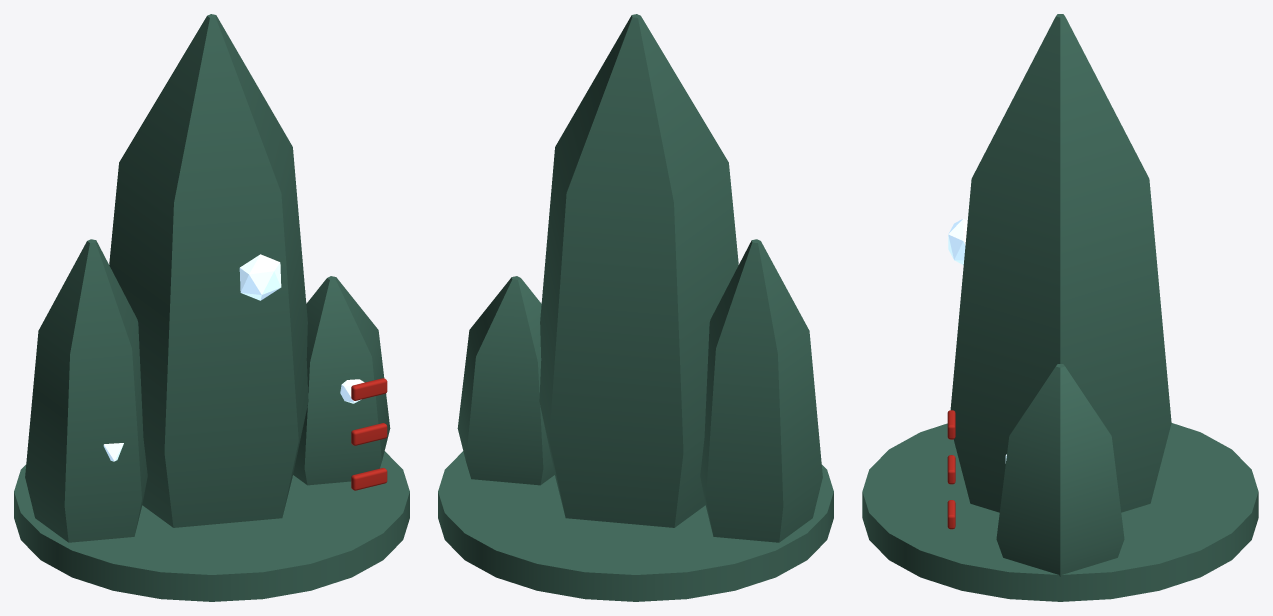
3 views of the same model, side by side, from view 1: azimuth 30°, elevation 25°; view 2: azimuth 150°, elevation 25°; view 3: azimuth 270°, elevation 25° (orthographic).
Visible parts, largest first — view 1: Faceted crystal tower, Foundation drum, Faceted crystal tower.002, Faceted crystal tower.001, Central luminous node, Crystal red identifying inset.001, Crystal red identifying inset, Crystal red identifying inset.002; view 2: Faceted crystal tower, Foundation drum, Faceted crystal tower.002, Faceted crystal tower.001; view 3: Faceted crystal tower, Foundation drum, Faceted crystal tower.001, Central luminous node.
Boxes of the visible parts, x1,y1,x2,y2 form: Faceted crystal tower: (109,14,308,527); Foundation drum: (14,451,409,601); Faceted crystal tower.002: (25,239,147,542); Faceted crystal tower.001: (293,276,390,485); Central luminous node: (239,254,281,300); Crystal red identifying inset.001: (351,423,387,445); Crystal red identifying inset: (351,468,387,490); Crystal red identifying inset.002: (351,378,387,400); Faceted crystal tower: (539,14,738,527); Foundation drum: (438,451,833,601); Faceted crystal tower.002: (700,239,822,542); Faceted crystal tower.001: (457,276,554,485); Faceted crystal tower: (950,14,1171,512); Foundation drum: (862,423,1258,601); Faceted crystal tower.001: (996,364,1124,576); Central luminous node: (948,218,967,264).
Size of the model in its own units: 2.04 by 2.8 by 2.
